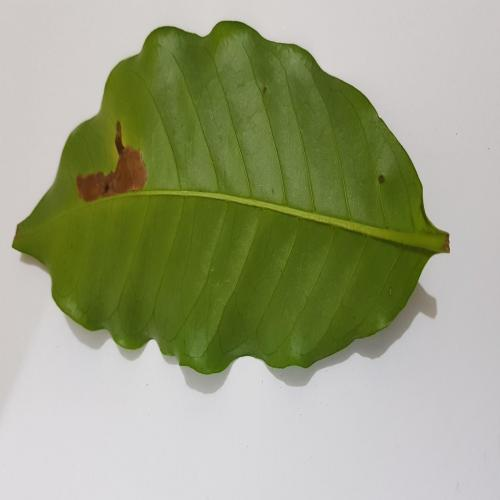leaf: (76, 123, 147, 202)
